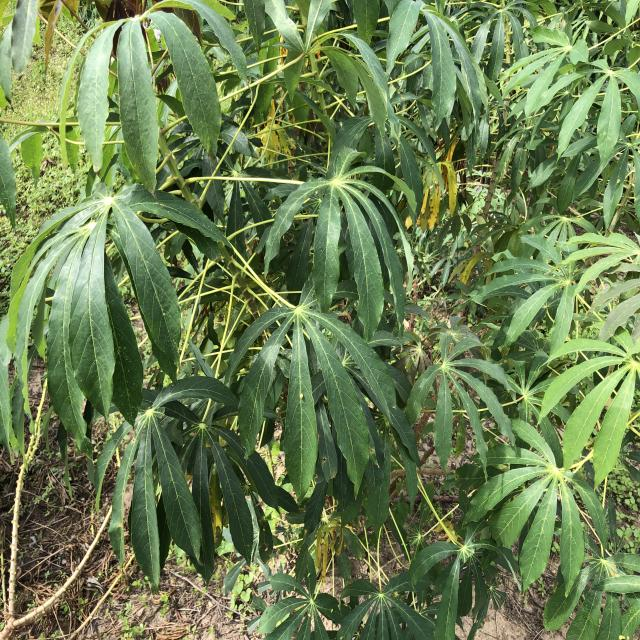Mosca: (303, 566, 316, 579), (297, 389, 307, 402), (262, 543, 272, 556), (329, 606, 340, 617)
